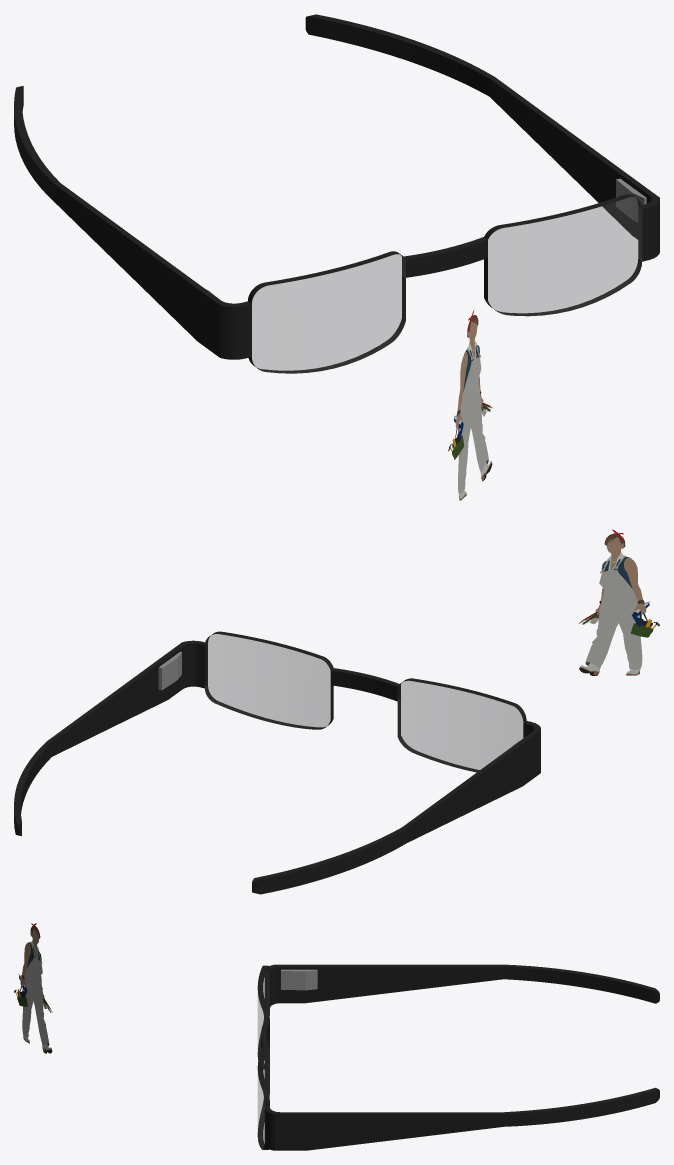
The model's file is glasses.dae.
3 views of the same model, one above another, from view 1: azimuth 30°, elevation 25°; view 2: azimuth 150°, elevation 25°; view 3: azimuth 270°, elevation 25° (orthographic). The views are drawn at different scales.
Visible parts, largest first — view 1: SketchUp (×6), Lisanne; view 2: SketchUp (×6), Lisanne; view 3: SketchUp (×3), Lisanne.
Boxes of the visible parts, left/top/right/bottom form: SketchUp (×6): left=14, top=14, right=659, bottom=373; Lisanne: left=458, top=357, right=488, bottom=493; SketchUp (×6): left=14, top=631, right=540, bottom=894; Lisanne: left=585, top=570, right=642, bottom=669; SketchUp (×3): left=257, top=964, right=659, bottom=1150; Lisanne: left=22, top=957, right=49, bottom=1045.
Bounding box in the file's own units: 171 × 313 × 66.88.
